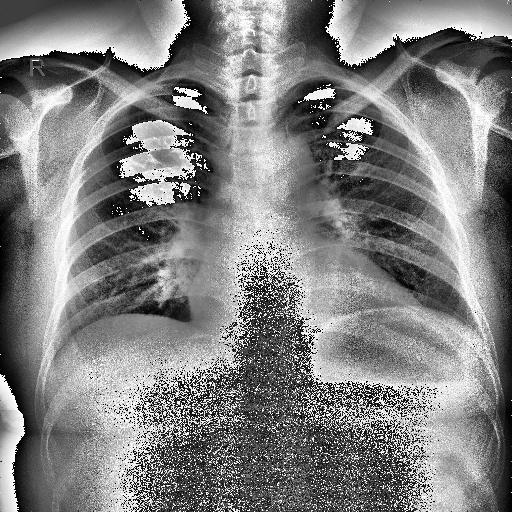0- Aortic enlargement: (260, 130, 318, 203), (255, 132, 314, 186), (264, 134, 312, 192)
3- Cardiomegaly: (185, 268, 424, 331), (186, 276, 418, 331)
